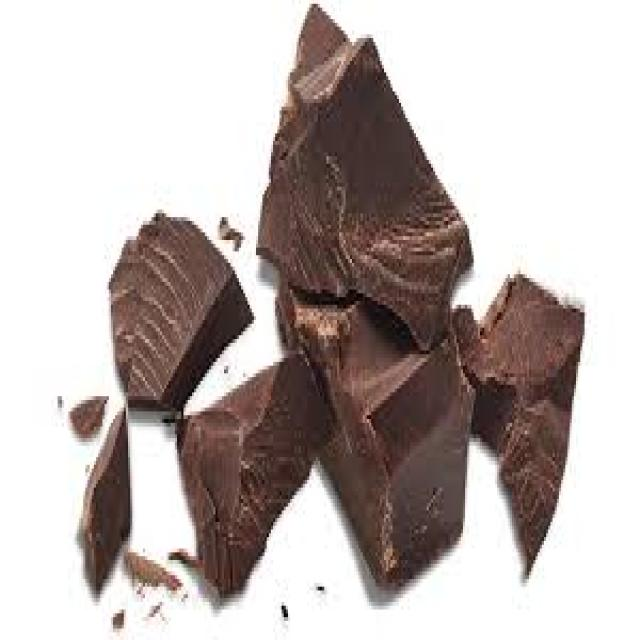Chocolate: (66, 0, 588, 605)
